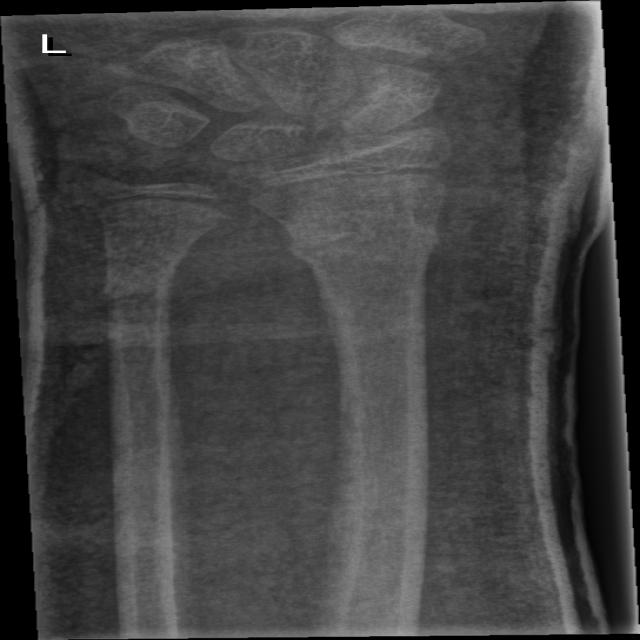radius fracture: (260, 208, 458, 302)
